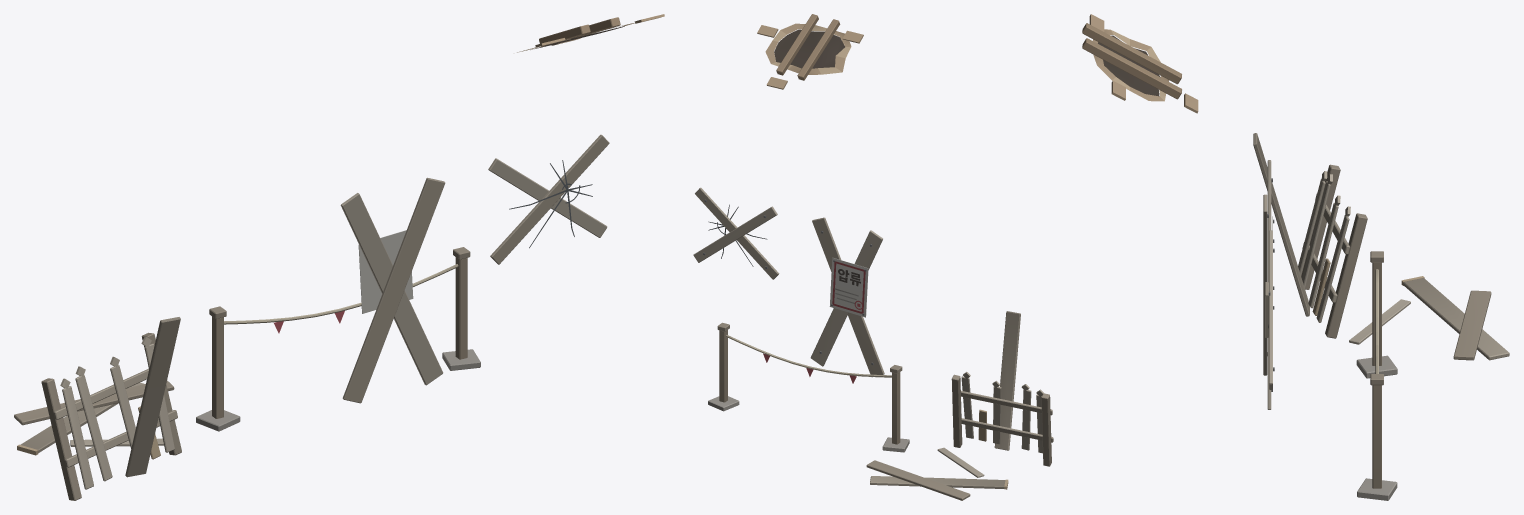
File: house_seized_hut.glb
3 renders of one model, left to right at view 1: azimuth 30°, elevation 25°; view 2: azimuth 150°, elevation 25°; view 3: azimuth 270°, elevation 25°, orthographic. The views are drawn at different scales.
Bounding box in the file's own units: 4.6 × 3.74 × 3.1.
